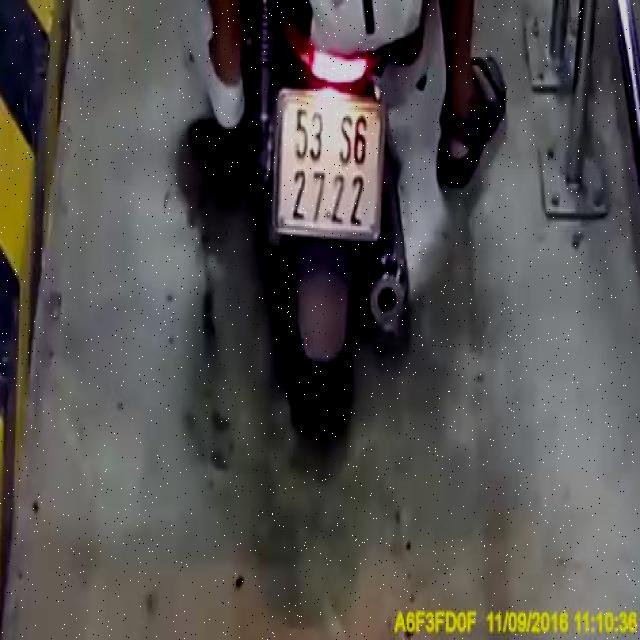2: (288, 168, 308, 222), (351, 173, 366, 229), (332, 175, 344, 228)
3: (310, 110, 324, 165)
5: (295, 105, 310, 165)
6: (354, 114, 368, 170)
7: (308, 169, 328, 222)
S: (339, 114, 354, 166)
